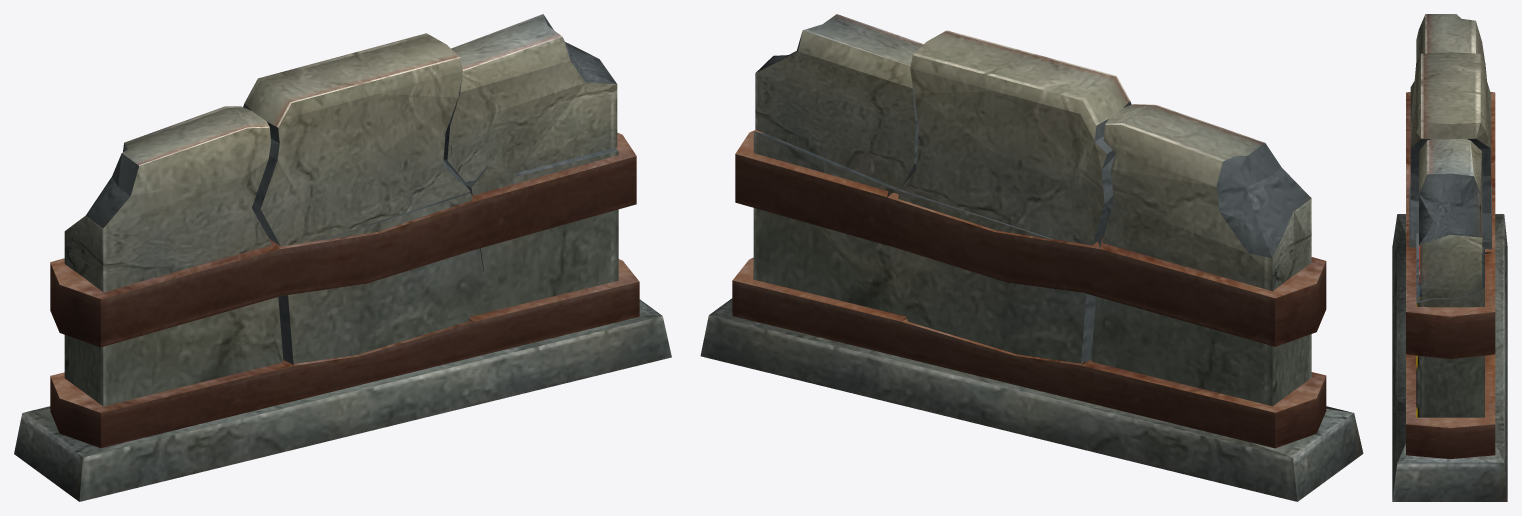
File: FPS_yanti_shitou_01.FBX
3 renders of one model, left to right at view 1: azimuth 30°, elevation 25°; view 2: azimuth 150°, elevation 25°; view 3: azimuth 270°, elevation 25°, orthographic. The views are drawn at different scales.
Parts seen in each view (by area): view 1: Group001; view 2: Group001; view 3: Group001.
Boxes of the visible parts, x1,y1,x2,y2 form: Group001: (14, 14, 671, 501); Group001: (700, 14, 1363, 501); Group001: (1392, 14, 1507, 501).
Bounding box in the file's own units: 219 × 118 × 41.93.
